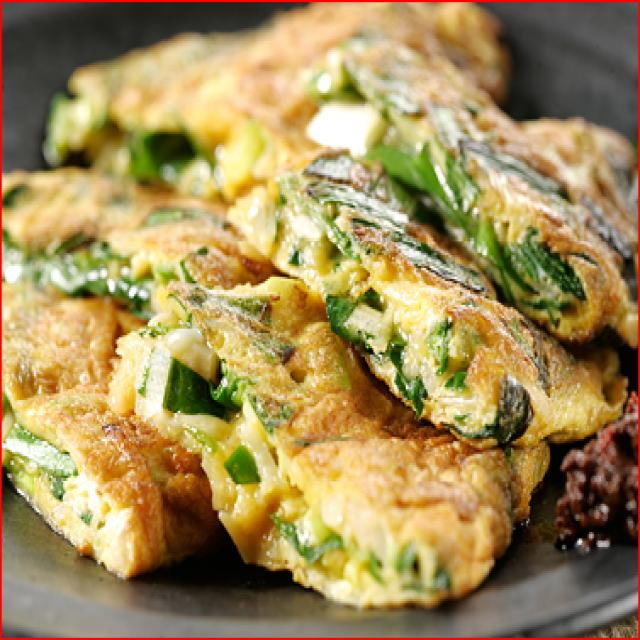鸡蛋料理: (10, 8, 616, 610)
